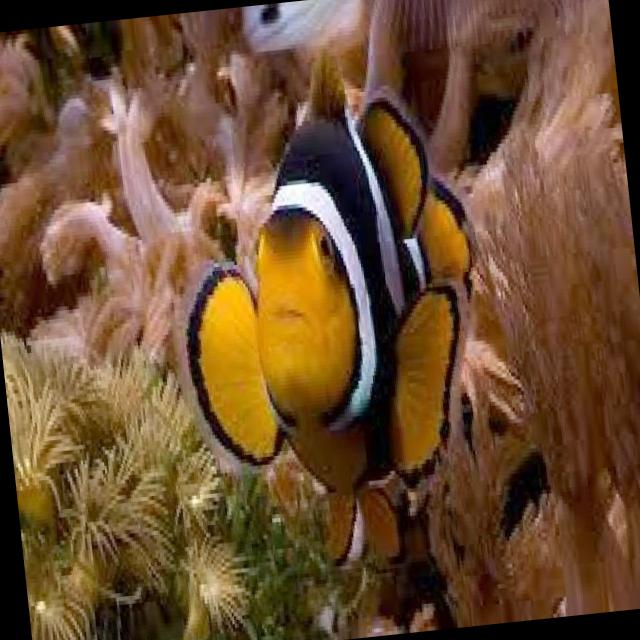ClownFish: (161, 81, 484, 486), (313, 482, 437, 586)
